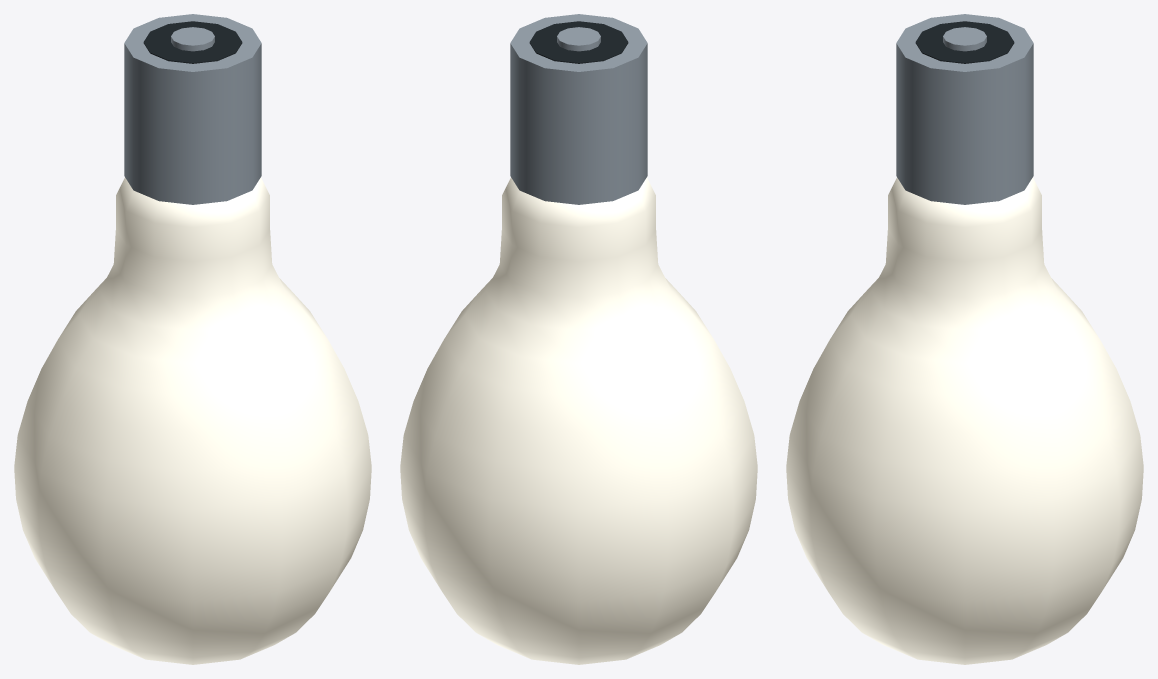
Rendered from source.glb.
3 views of the same model, side by side, from view 1: azimuth 30°, elevation 25°; view 2: azimuth 150°, elevation 25°; view 3: azimuth 270°, elevation 25° (orthographic).
Parts seen in each view (by area): view 1: Emitters, 机加工金属, 密封及绝缘件; view 2: Emitters, 机加工金属, 密封及绝缘件; view 3: Emitters, 机加工金属, 密封及绝缘件.
Boxes of the visible parts, x1=… form: Emitters: x1=14, y1=177, x2=371, y2=664; 机加工金属: x1=124, y1=14, x2=261, y2=204; 密封及绝缘件: x1=143, y1=21, x2=242, y2=63; Emitters: x1=400, y1=177, x2=757, y2=664; 机加工金属: x1=510, y1=14, x2=647, y2=204; 密封及绝缘件: x1=529, y1=21, x2=628, y2=63; Emitters: x1=786, y1=177, x2=1143, y2=664; 机加工金属: x1=896, y1=14, x2=1033, y2=204; 密封及绝缘件: x1=915, y1=21, x2=1014, y2=63.
Bounding box in the file's own units: 0.0703 × 0.1324 × 0.0703.
